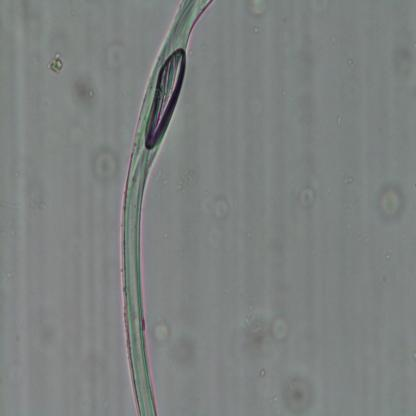Background material: (26, 175, 60, 232), (388, 30, 416, 86), (26, 312, 58, 358), (238, 312, 270, 357), (374, 182, 405, 226), (88, 146, 121, 186), (284, 374, 316, 412), (168, 337, 198, 368), (102, 40, 130, 70), (69, 81, 99, 108), (333, 160, 357, 189), (242, 90, 266, 118), (270, 316, 292, 344), (245, 0, 270, 23), (211, 196, 232, 221), (150, 322, 172, 344), (46, 50, 64, 75), (297, 186, 316, 209)
Microfibre: (120, 0, 212, 414)
